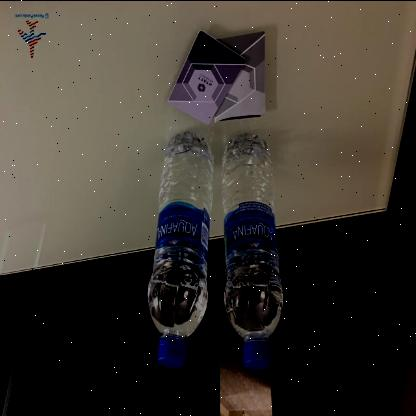Plastic Bottle: (148, 130, 214, 367), (222, 132, 284, 369)
